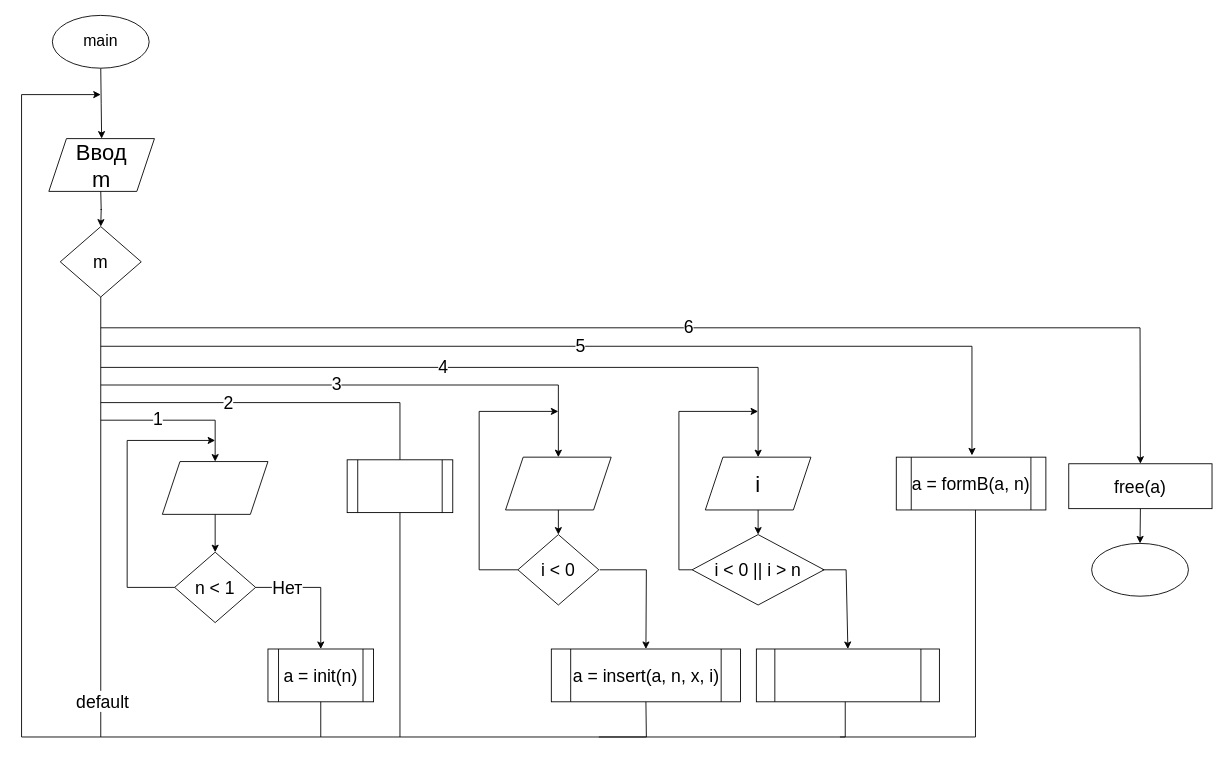
Image size: 1228x759. Some labels were removed from this diagram. The centre of each missing label's shape, as x and y in pixels:
"a = delete(a, n, i)" belongs at pixel 847 675.
"print(a, n)" belongs at pixel 399 486.
"Ввод n" belongs at pixel 214 487.
"Ввод x, i" belongs at pixel 558 483.
"Выход" belongs at pixel 1139 569.
